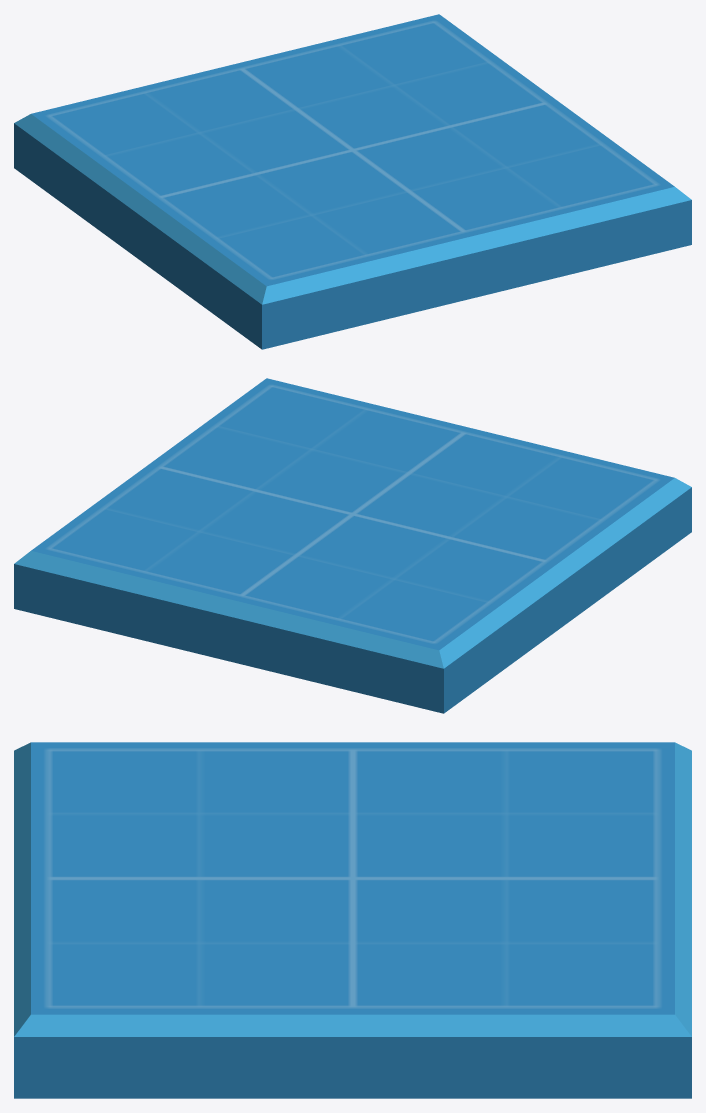
The model's file is Floor_Prototype.glb.
The picture shows the model from 3 angles, top to bottom: view 1: azimuth 30°, elevation 25°; view 2: azimuth 150°, elevation 25°; view 3: azimuth 270°, elevation 25°; orthographic projection. The views are drawn at different scales.
Visible parts, largest first — view 1: Floor_Prototype; view 2: Floor_Prototype; view 3: Floor_Prototype.
Part boxes in pixels (bbox=[...]): Floor_Prototype: bbox=[14, 14, 691, 349]; Floor_Prototype: bbox=[14, 378, 691, 713]; Floor_Prototype: bbox=[14, 742, 691, 1098].
Bounding box in the file's own units: 4 × 0.5 × 4.
1 material, 1 textured.
